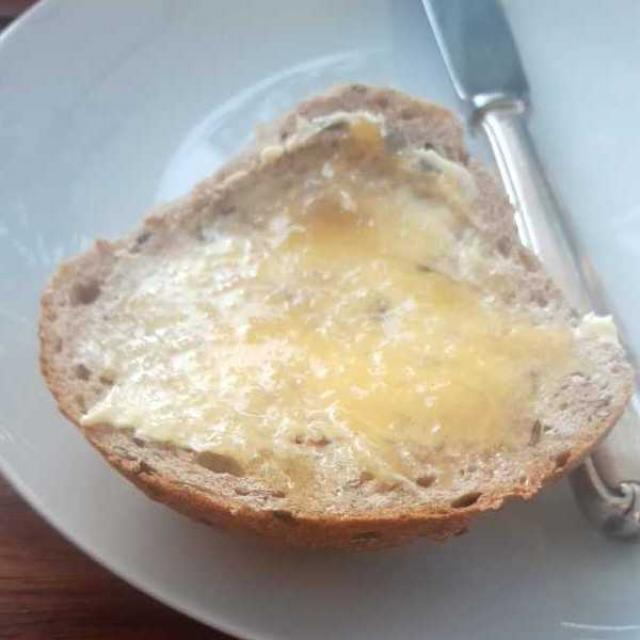bread: (42, 87, 623, 543)
butter: (100, 139, 479, 491)
honey: (111, 126, 588, 478)
